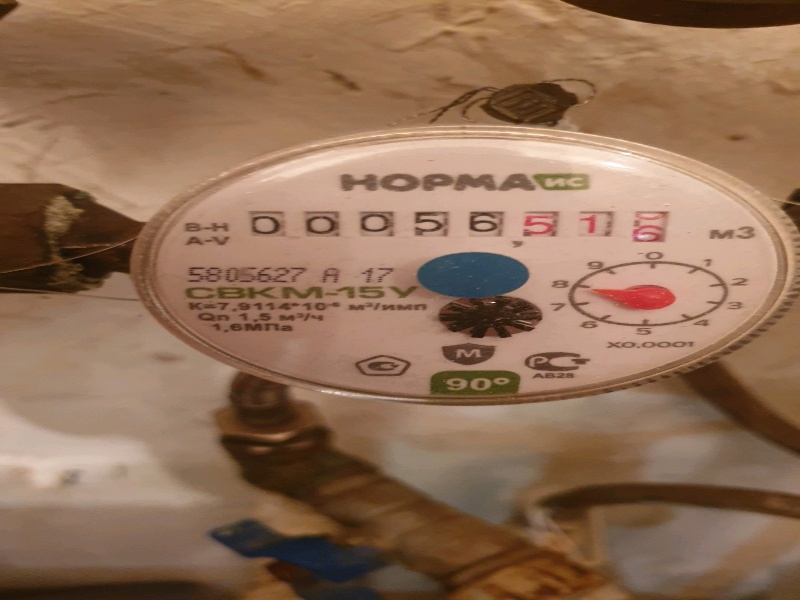meter: (237, 199, 677, 250)
